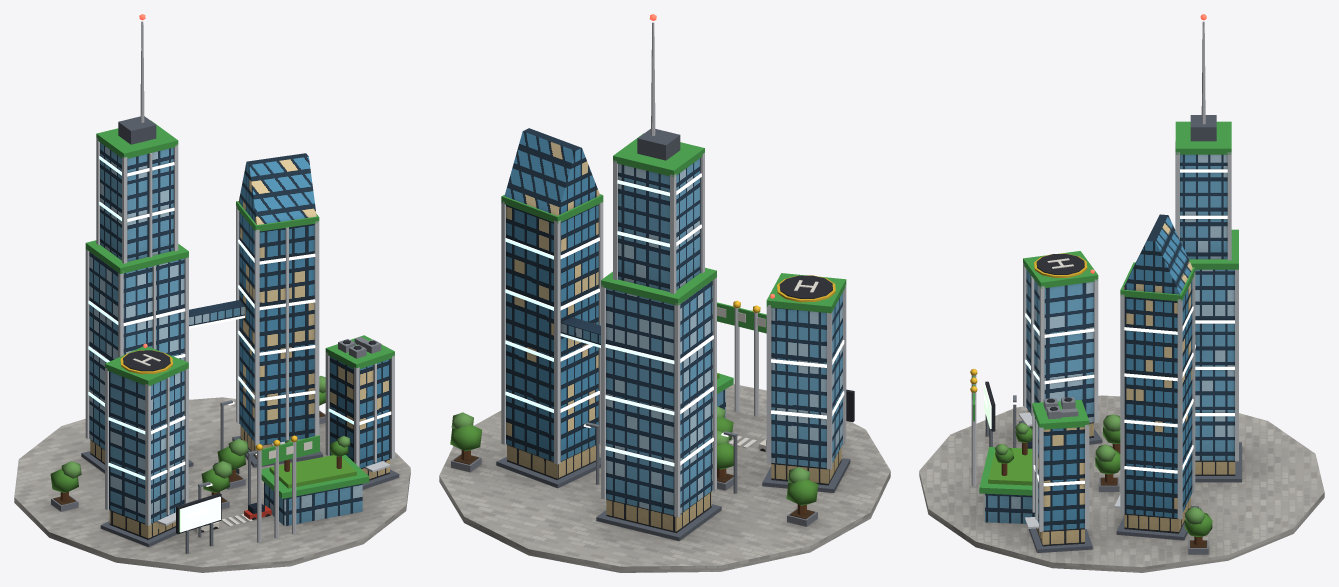
The model's file is city_dl7_green.glb.
3 views of the same model, side by side, from view 1: azimuth 30°, elevation 25°; view 2: azimuth 150°, elevation 25°; view 3: azimuth 270°, elevation 25° (orthographic). The views are drawn at different scales.
Visible parts, largest first — view 1: city_dl7_green; view 2: city_dl7_green; view 3: city_dl7_green.
Boxes of the visible parts, bbox=[...] form: city_dl7_green: bbox=[14, 14, 410, 572]; city_dl7_green: bbox=[439, 14, 890, 572]; city_dl7_green: bbox=[919, 14, 1324, 572].
Size of the model in its own units: 1.59 by 1.98 by 1.59.
6 materials, 1 textured.
